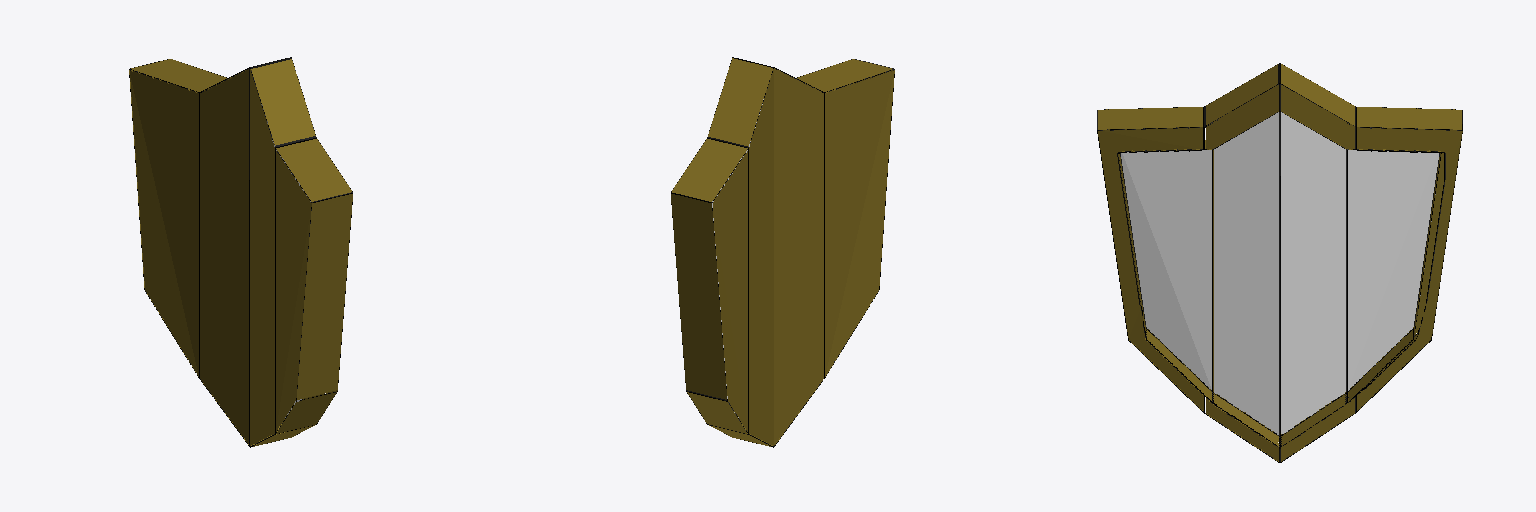
3 renders of one model, left to right at view 1: azimuth 30°, elevation 25°; view 2: azimuth 150°, elevation 25°; view 3: azimuth 270°, elevation 25°, orthographic.
Visible parts, largest first — view 1: Cube; view 2: Cube; view 3: Cube.
Part boxes in pixels (x1,y1,x2,y2): Cube: (129, 57, 352, 447); Cube: (671, 57, 894, 447); Cube: (1097, 63, 1462, 462).
Size of the model in its own units: 0.5412 by 2.77 by 2.41.
1 materials, 1 textured.